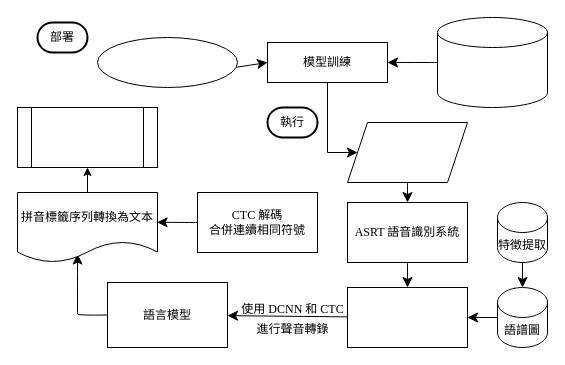
Some shapes in this 565 by 365 pixel diagram are drawn without their labels. The centre of each missing label's shape, as x and y in pixels:
Github庫提供的 Data Sets数据集: the point at 492,62
傳送至ChatGPT: the point at 87,137
聲學模型: the point at 407,317
部署 ASRT API 服務: the point at 167,62
音頻: the point at 407,152
